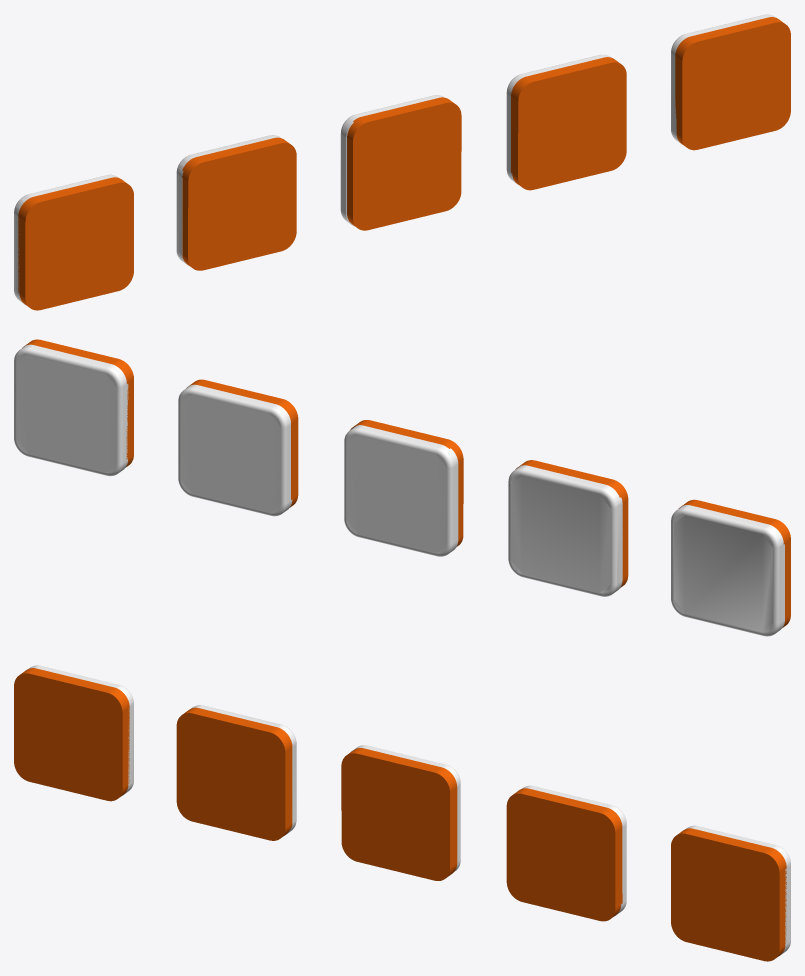
File: orange.glb
3 views of the same model, one above another, from view 1: azimuth 30°, elevation 25°; view 2: azimuth 150°, elevation 25°; view 3: azimuth 330°, elevation 25° (orthographic).
Visible parts, largest first — view 1: Product.004; view 2: Product.004; view 3: Product.004.
Boxes of the visible parts, left/top/right/bottom form: Product.004: left=14, top=14, right=790, bottom=310; Product.004: left=14, top=339, right=790, bottom=636; Product.004: left=14, top=665, right=790, bottom=961.
Size of the model in its own units: 0.1481 by 0.0201 by 0.00444.
2 materials, 1 textured.
